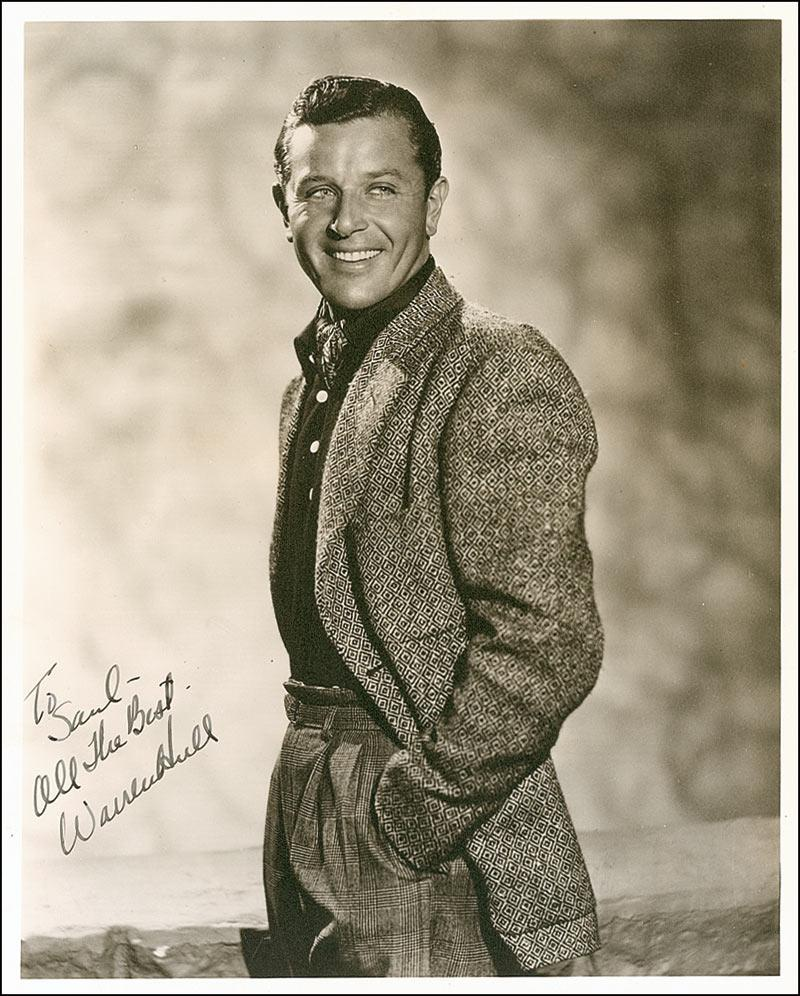bad: (270, 133, 425, 288)
